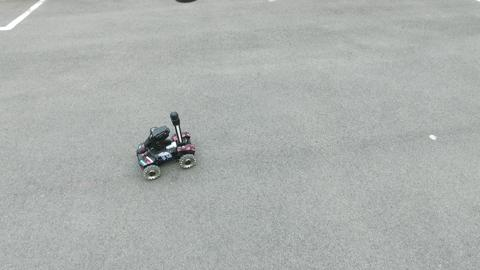chariot: (120, 113, 191, 188)
